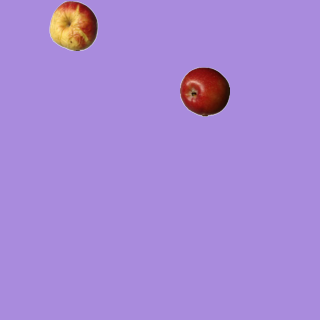Apple Braeburn: (179, 66, 229, 116)
Apple Red Yellow 1: (48, 0, 98, 50)
